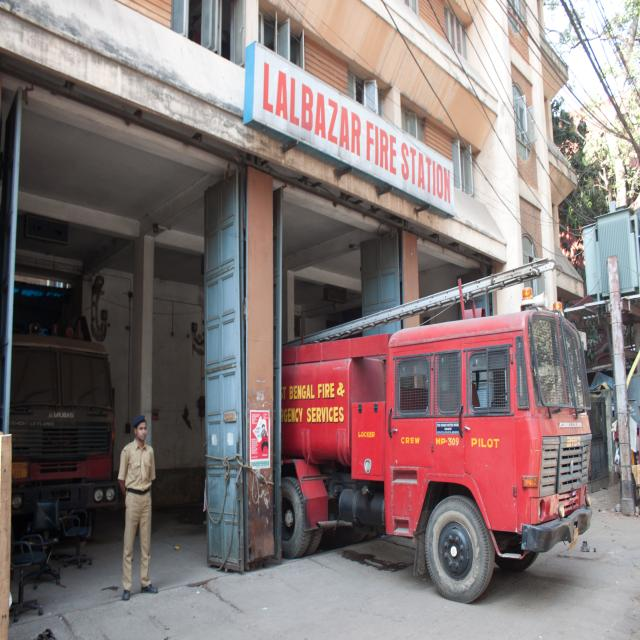Fire Truck: (319, 279, 599, 585)
